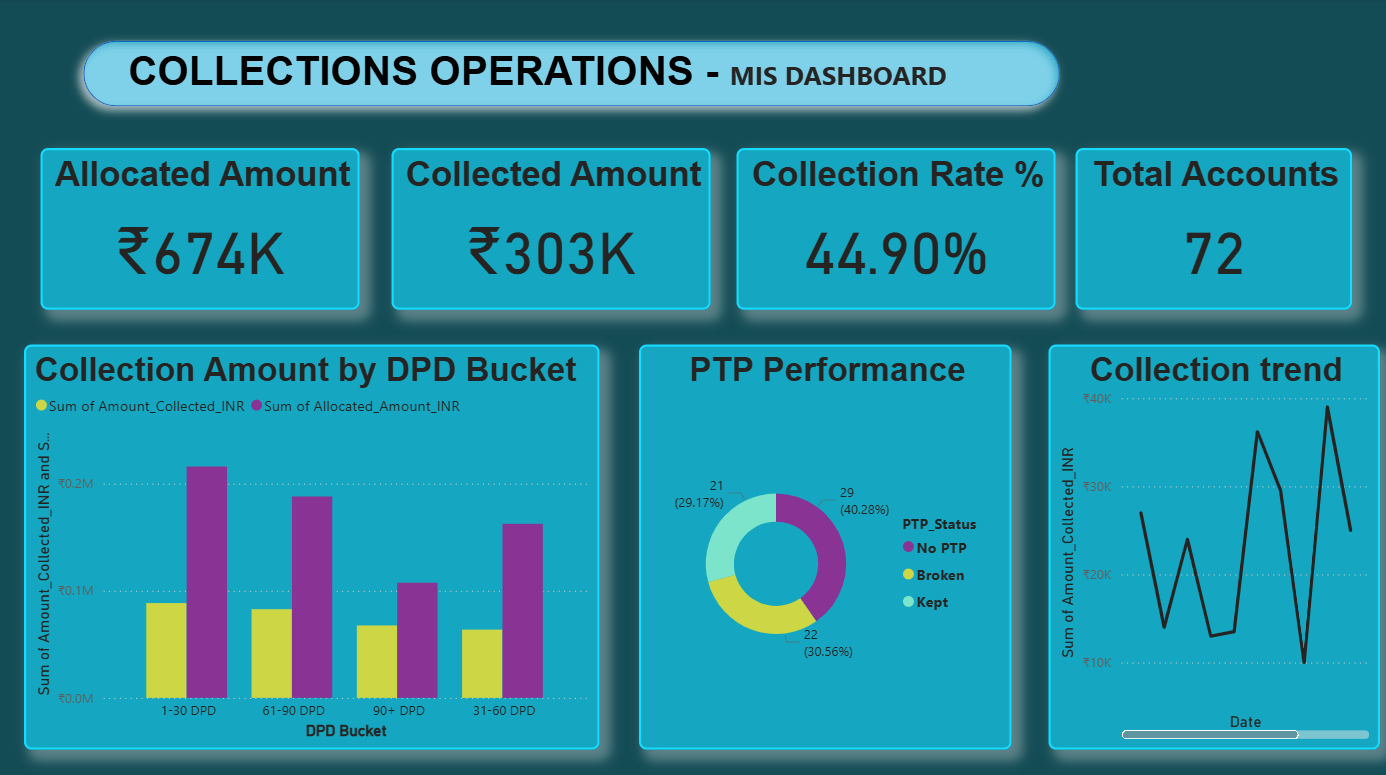

The page's visual inventory and layout, read from the dashboard file:
{"tool":"powerbi","page":{"name":"Page 1","canvas":[1280,720],"ordinal":0},"visuals":[{"type":"shape","box":[64.3,26.5,927.9,86.9],"z":0},{"type":"textbox","box":[113.4,39.7,878.7,60.5],"z":1000},{"type":"card","title":"Allocated Amount","fields":{"Values":["Sum(Collections_Data.Allocated_Amount_INR)"]},"box":[37.8,138,294.8,149.3],"z":2000},{"type":"card","title":"Collected Amount","fields":{"Values":["Sum(Collections_Data.Amount_Collected_INR)"]},"box":[360.9,138,294.8,149.3],"z":3000},{"type":"card","title":"Collection Rate %","fields":{"Values":["Collections_Data.Collection Rate (%)"]},"box":[680.3,138,294.8,149.3],"z":4000},{"type":"card","title":"Total Accounts","fields":{"Values":["Count(Collections_Data.Account_ID)"]},"box":[992.1,138,255.1,149.3],"z":5000},{"type":"clusteredColumnChart","title":"Collection Amount by DPD Bucket","fields":{"Category":["Collections_Data.DPD_Bucket"],"Y":["Sum(Collections_Data.Amount_Collected_INR)","Sum(Collections_Data.Allocated_Amount_INR)"]},"box":[22.7,319.4,531,374.2],"z":6000},{"type":"donutChart","title":"PTP Performance","fields":{"Category":["Collections_Data.PTP_Status"],"Y":["CountNonNull(Collections_Data.PTP_Status)"]},"box":[589.6,319.4,343.9,374.2],"z":6001},{"type":"lineChart","title":"Collection trend","fields":{"Y":["Sum(Collections_Data.Amount_Collected_INR)"],"Category":["Collections_Data.Allocation_Date.Variation.Date Hierarchy.Month","Collections_Data.Allocation_Date.Variation.Date Hierarchy.Day"]},"box":[967.6,319.4,306.1,374.2],"z":6002}]}

Visuals, with their boxes in screenshot pixels (x1, y1, x2, y2), scaled from the page's 1280x720 canvas onto the 1386x775 screenshot:
shape: (70, 29, 1074, 122)
textbox: (123, 43, 1074, 108)
"Allocated Amount" card: (41, 149, 360, 309)
"Collected Amount" card: (391, 149, 710, 309)
"Collection Rate %" card: (737, 149, 1056, 309)
"Total Accounts" card: (1074, 149, 1350, 309)
"Collection Amount by DPD Bucket" clusteredColumnChart: (25, 344, 600, 747)
"PTP Performance" donutChart: (638, 344, 1011, 747)
"Collection trend" lineChart: (1048, 344, 1379, 747)
